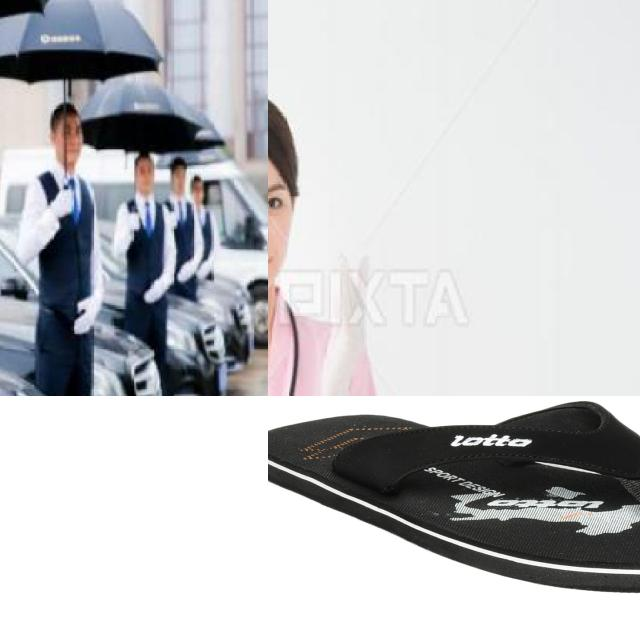No_Glasses: (268, 179, 290, 222)
Sandals: (268, 398, 640, 594)
face_nomask: (61, 122, 85, 165), (139, 160, 158, 190)
hand_glove: (323, 253, 371, 386), (72, 294, 99, 337), (55, 183, 76, 216), (142, 274, 166, 302), (178, 257, 192, 279), (128, 208, 140, 230)
head_nohelmet: (268, 93, 301, 174), (46, 103, 82, 131)
person: (268, 95, 392, 396), (11, 95, 103, 396), (122, 145, 173, 396), (164, 160, 196, 282)
